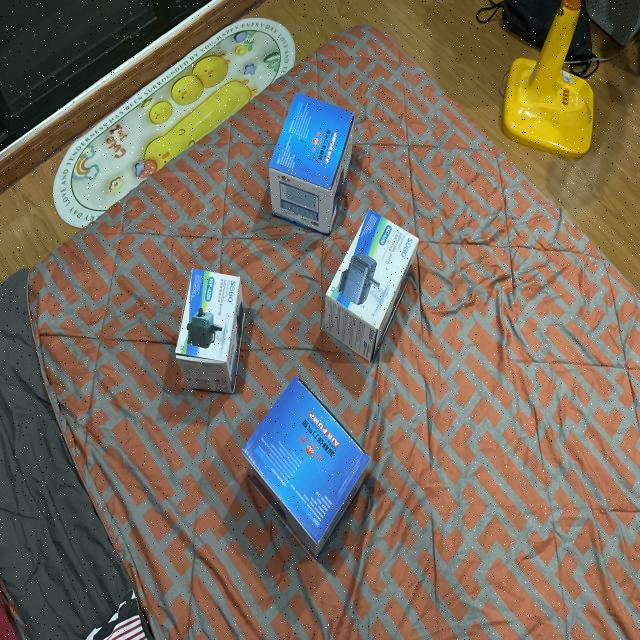SOBO_WP_4200: (322, 192, 440, 366), (168, 260, 250, 408)
YAMANO_LPP_20: (225, 368, 386, 562), (260, 89, 365, 253)
